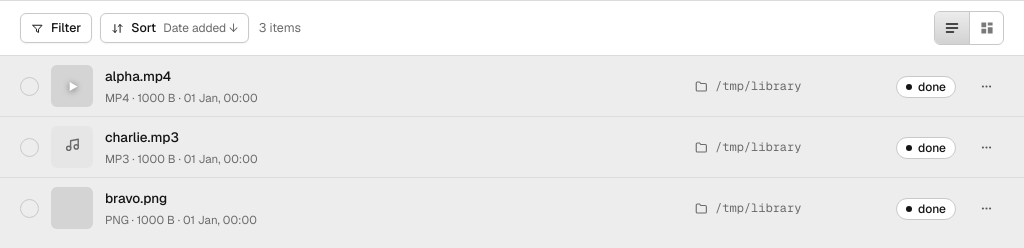
Test case: FileLibrary selection › starts a selection on press-and-hold and shows the action bar
This screenshot has width=1024, height=248.
Check: the text "selected" is not shown
Press the mouse on the option "alpha.mp4" at x=72, y=86, box [0, 56, 1023, 117]
Wait 500 ms
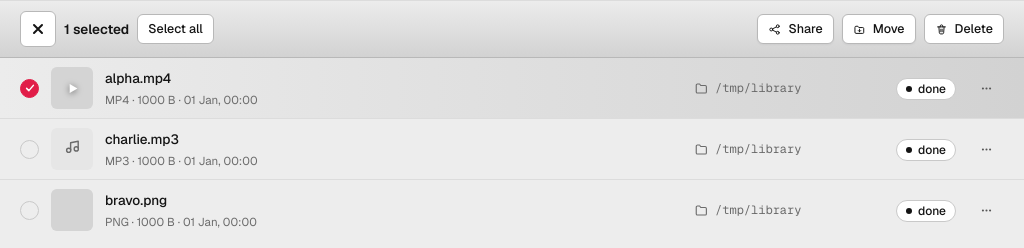
Check: the text "1 selected" is shown, box [64, 19, 129, 39]
Check: the button "Share" is shown, box [757, 14, 834, 44]
Check: the button "Move" is shown, box [842, 14, 916, 44]
